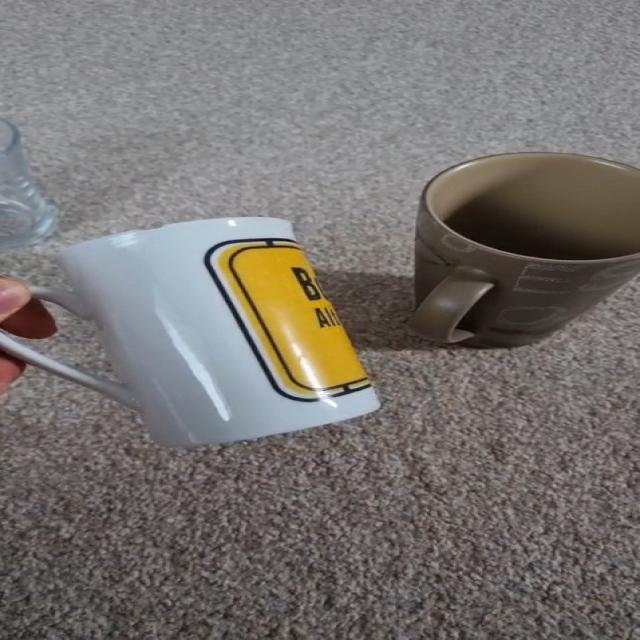Cup: (0, 218, 379, 446), (414, 153, 639, 349), (0, 117, 56, 251)
